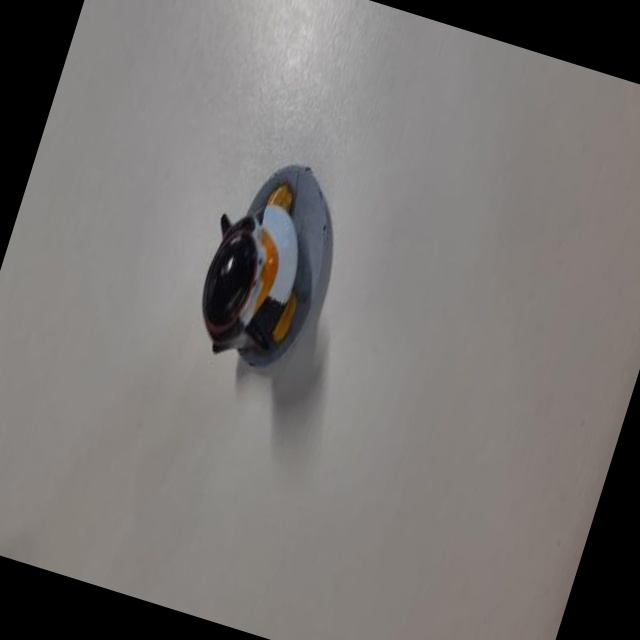Penguin: (168, 118, 373, 407)
